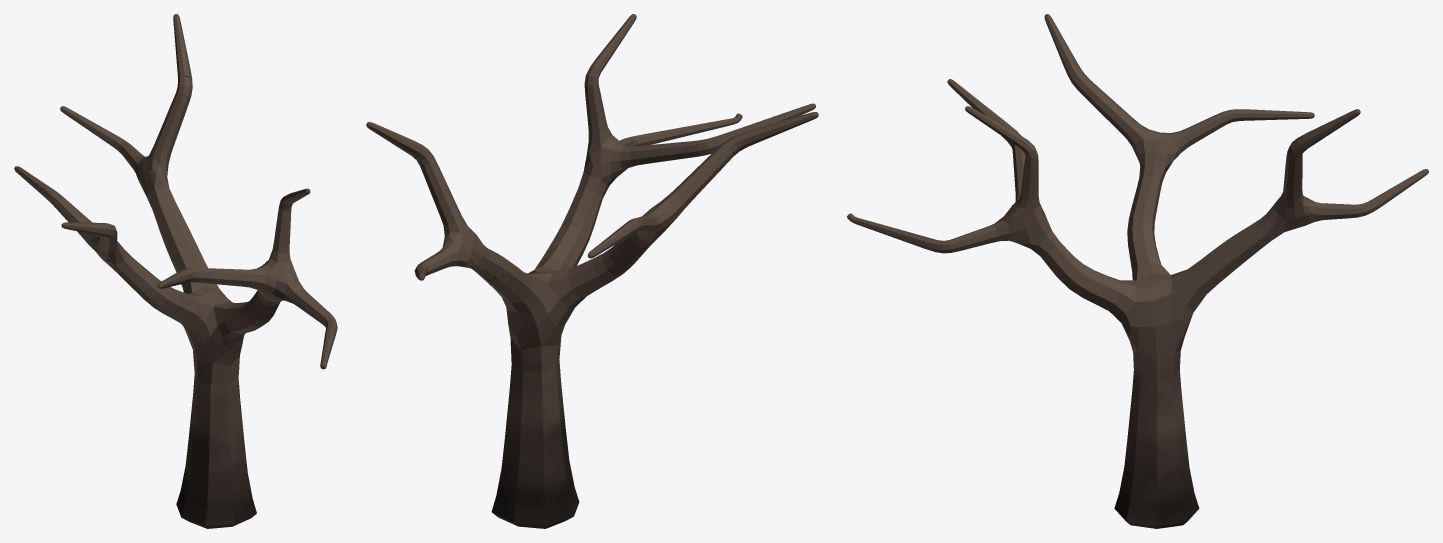
The model's file is foretMort3.fbx.
The picture shows the model from 3 angles, left to right: view 1: azimuth 30°, elevation 25°; view 2: azimuth 150°, elevation 25°; view 3: azimuth 270°, elevation 25°; orthographic projection. The views are drawn at different scales.
Parts seen in each view (by area): view 1: Plane.005; view 2: Plane.005; view 3: Plane.005.
Part boxes in pixels (x1=…): Plane.005: x1=14, y1=14, x2=337, y2=528; Plane.005: x1=366, y1=14, x2=818, y2=528; Plane.005: x1=847, y1=14, x2=1428, y2=528.
Size of the model in its own units: 1.47 by 2.21 by 2.67.
Materials: 1 (1 with a texture image).
